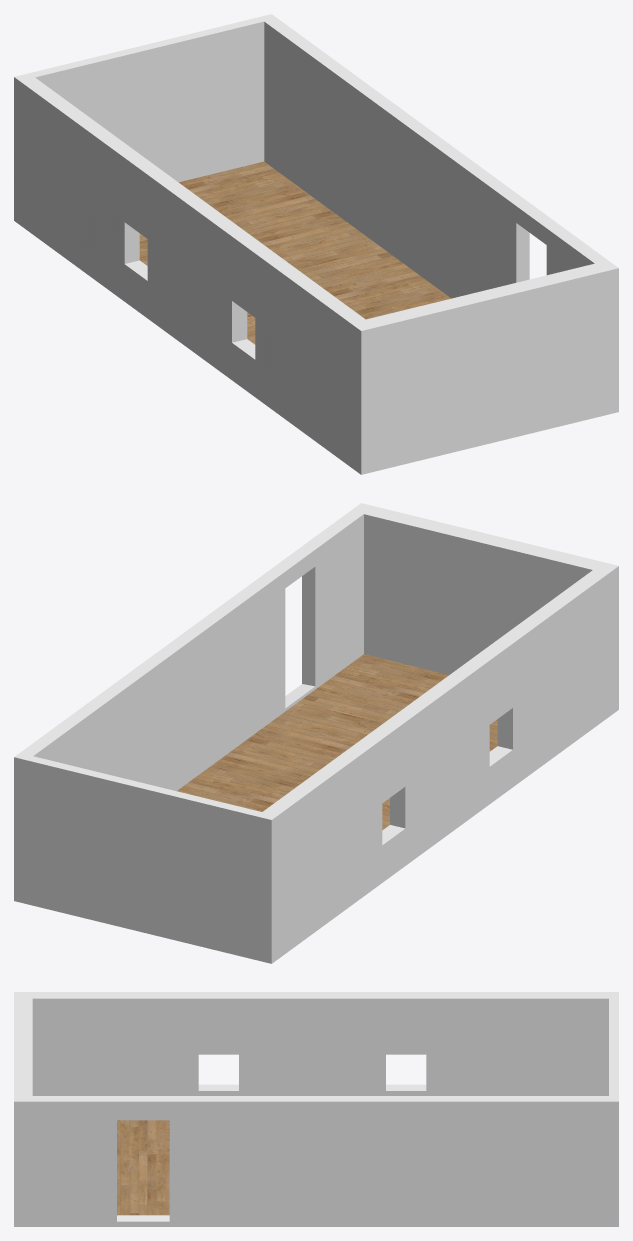
The model's file is floor and walls.FBX.
The picture shows the model from 3 angles, top to bottom: view 1: azimuth 30°, elevation 25°; view 2: azimuth 150°, elevation 25°; view 3: azimuth 270°, elevation 25°; orthographic projection. The views are drawn at different scales.
Visible parts, largest first — view 1: Box002; view 2: Box002; view 3: Box002.
Boxes of the visible parts, left/top/right/bottom form: Box002: left=14, top=14, right=618, bottom=474; Box002: left=14, top=503, right=618, bottom=963; Box002: left=14, top=992, right=618, bottom=1226.
Bounding box in the file's own units: 177 × 94.49 × 413.
1 material, 1 textured.
